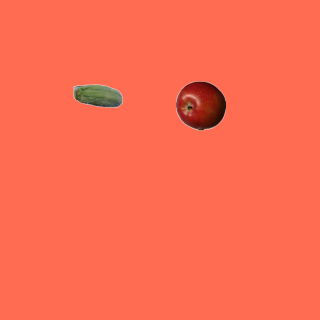Apple Braeburn: (175, 80, 225, 130)
Corn Husk: (72, 72, 122, 122)
